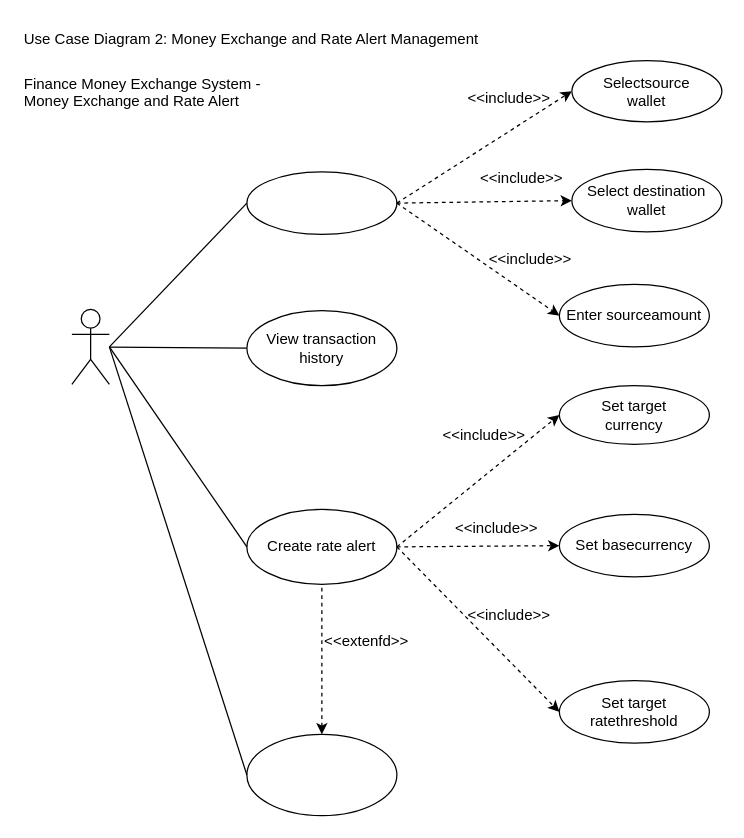
This 744x838 diagram has some shape labels left out. Here are the shapes that lost their labels. From the top down, the centre of each, then its label:
At point (321, 202): "Exchange currency".
At point (90, 346): "Customer".
At point (321, 774): "Receive rate alert notification".
